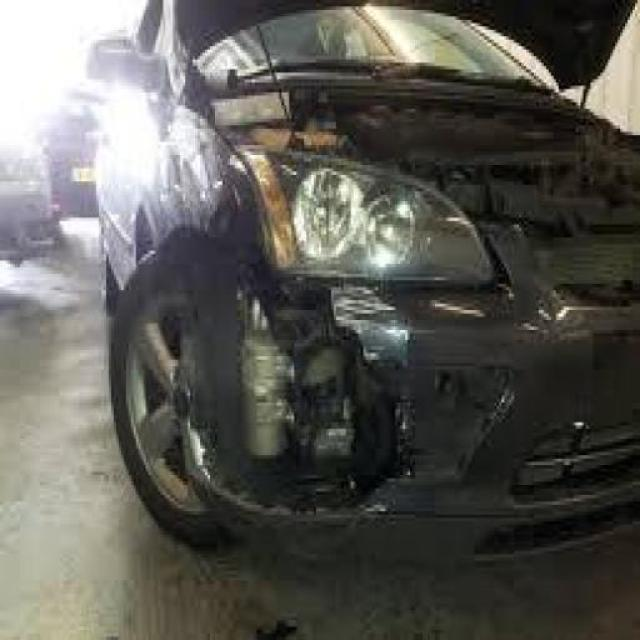missing: (184, 184, 493, 551)
